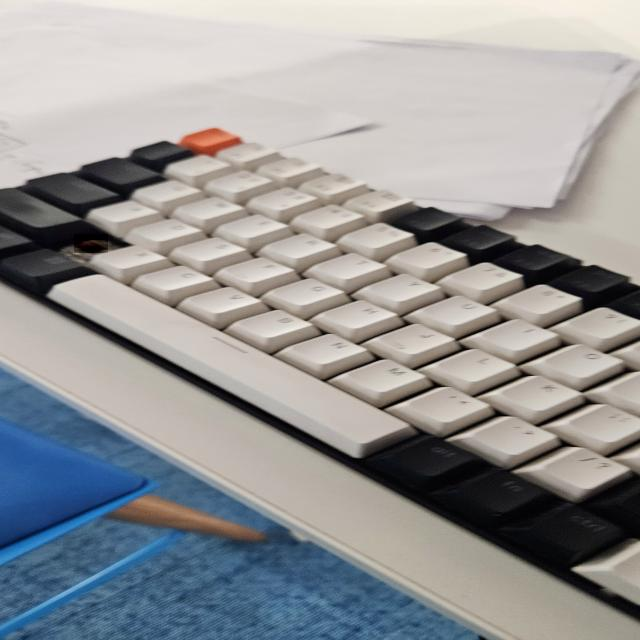C: (74, 234, 108, 253)
